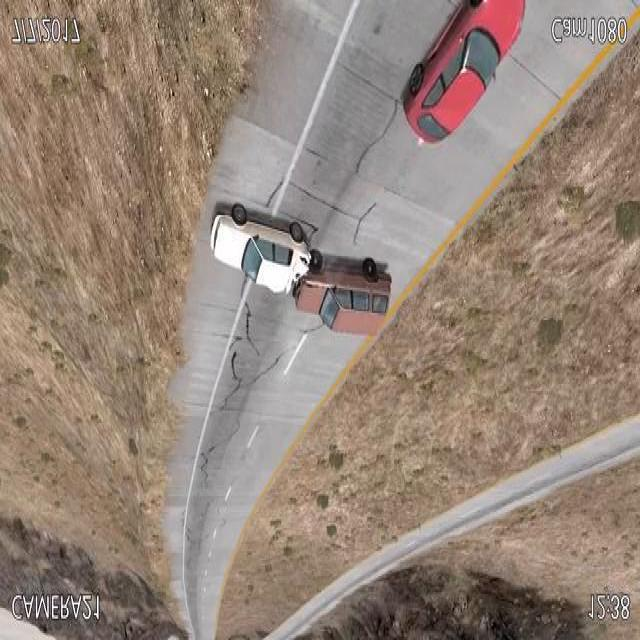moderate: (207, 198, 394, 340)
